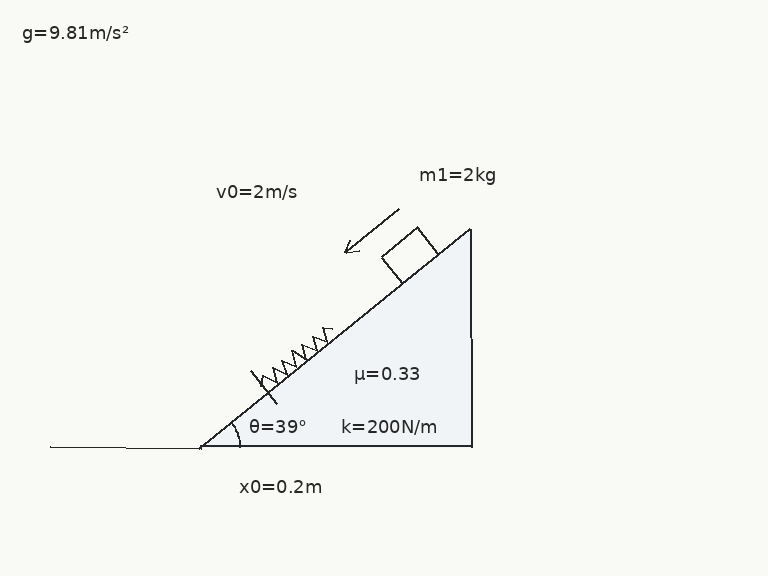block: (379, 226, 440, 285)
ramp: (198, 226, 472, 449)
spring: (260, 325, 334, 387)
